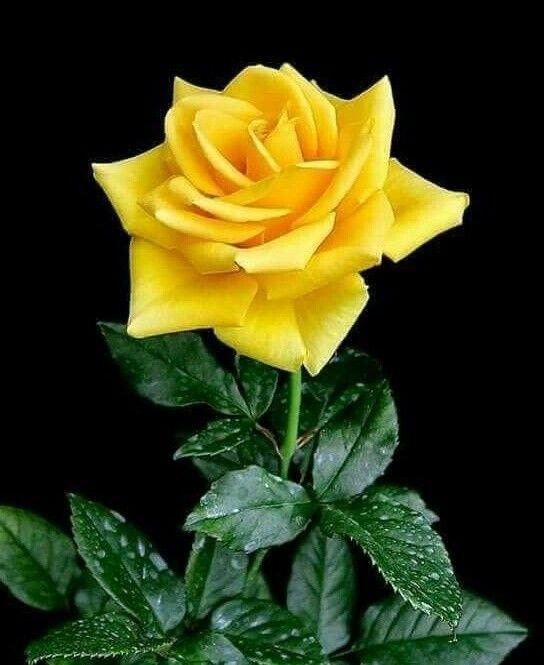Rose: (111, 33, 478, 377)
